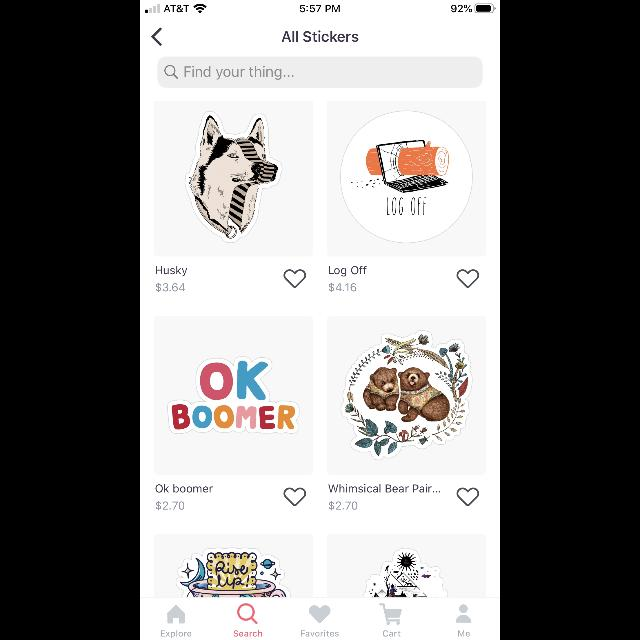icon: (380, 603, 402, 625), (237, 604, 257, 624), (309, 605, 331, 623), (284, 488, 306, 506), (457, 488, 479, 506), (457, 270, 479, 288), (284, 270, 306, 288), (168, 604, 185, 624), (456, 605, 470, 623), (152, 28, 162, 46), (165, 66, 178, 78)
image: (328, 316, 487, 474), (154, 316, 312, 474), (328, 101, 487, 256), (154, 101, 312, 256), (328, 534, 487, 598), (154, 534, 312, 596)
input: (158, 56, 482, 88)
text: (184, 66, 294, 80), (282, 30, 358, 42), (328, 484, 439, 492), (156, 484, 212, 492), (329, 266, 366, 276), (156, 266, 187, 276), (156, 282, 184, 292), (329, 282, 356, 292), (160, 630, 192, 638), (156, 502, 184, 511), (329, 502, 357, 511), (302, 630, 338, 636), (234, 630, 262, 636), (384, 630, 401, 636), (458, 630, 469, 636)
uppertaskbar: (140, 0, 500, 14)
